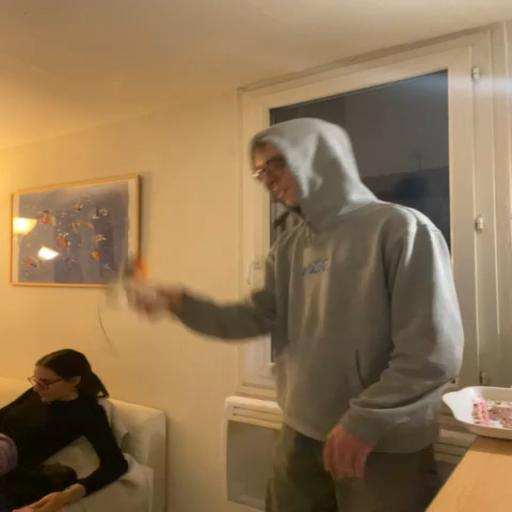kendama_ball: (123, 257, 151, 285)
